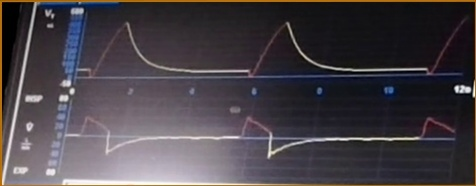Flow: (69, 113, 454, 169)
Leakage Volume: (82, 16, 468, 81)
